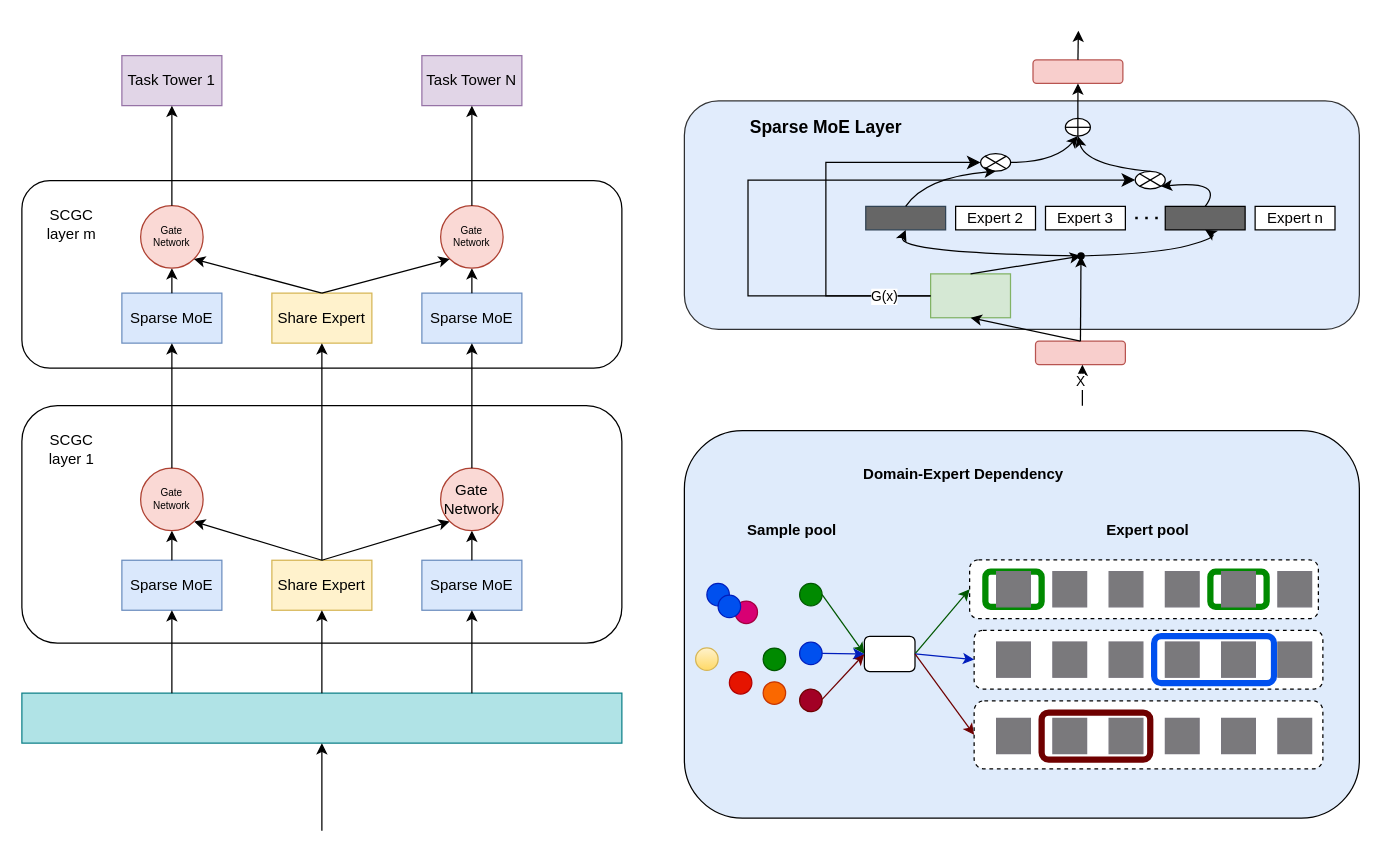
This 1381x863 diagram has some shape labels left out. The shapes that lost their labels are listed below. From the top down, each one's box as (x1, y1, x2, y2) in pixels, then its label:
(864, 205, 946, 230): Expert 1
(1164, 205, 1245, 230): Expert n-1
(929, 273, 1010, 318): Gating Network
(863, 635, 915, 672): Router
(21, 692, 622, 743): Embedding Layer
